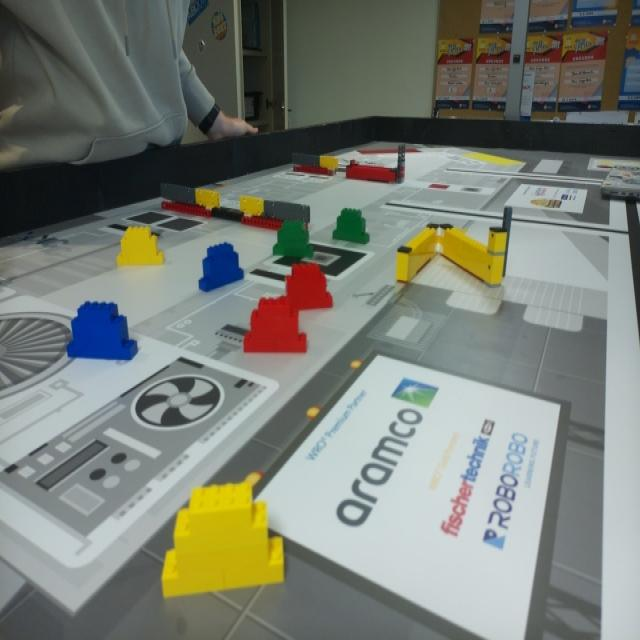blau: (68, 304, 138, 363), (202, 246, 244, 292)
gruen: (275, 218, 314, 257), (333, 205, 370, 245)
rot: (243, 301, 304, 352), (282, 266, 334, 311)
yellow: (163, 482, 285, 600), (119, 230, 163, 269)
